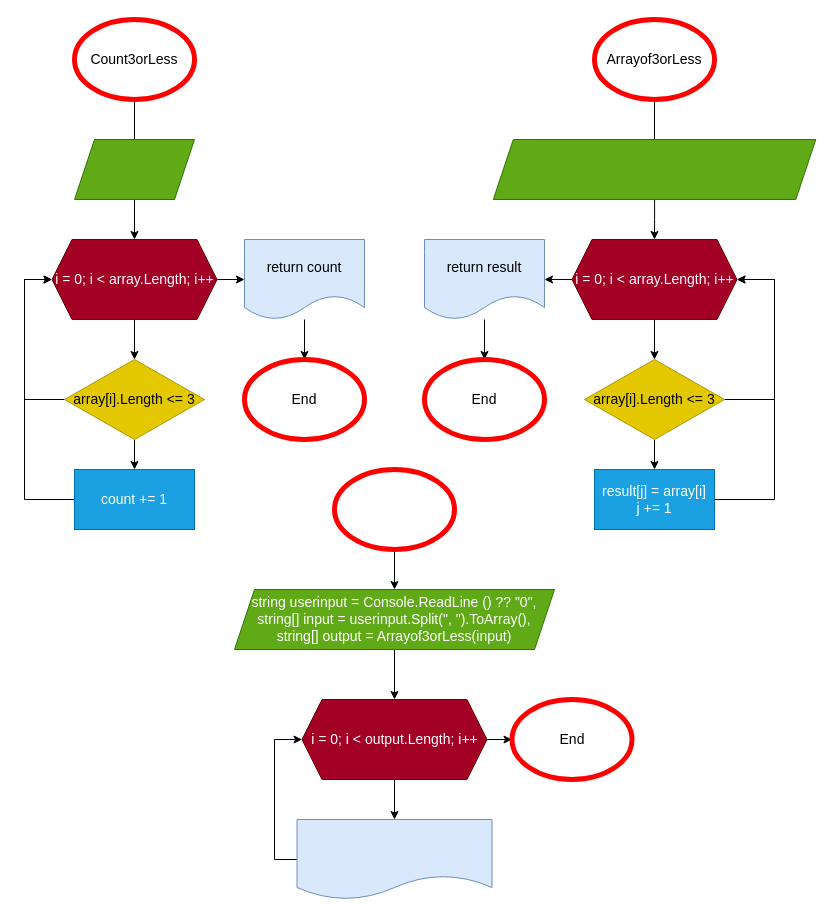
The diagram is 834 pixels wide and 917 high, and some of its shapes have lost their labels. Each missing label, with the centre of its shape:
Console.WriteLine($"output[i]"): the point at 394,859
string[] array, int count = 0: the point at 134,169
string[] array, string[] result = new string[Count3orLess(array)], int j = 0: the point at 654,169
Старт: the point at 394,509
